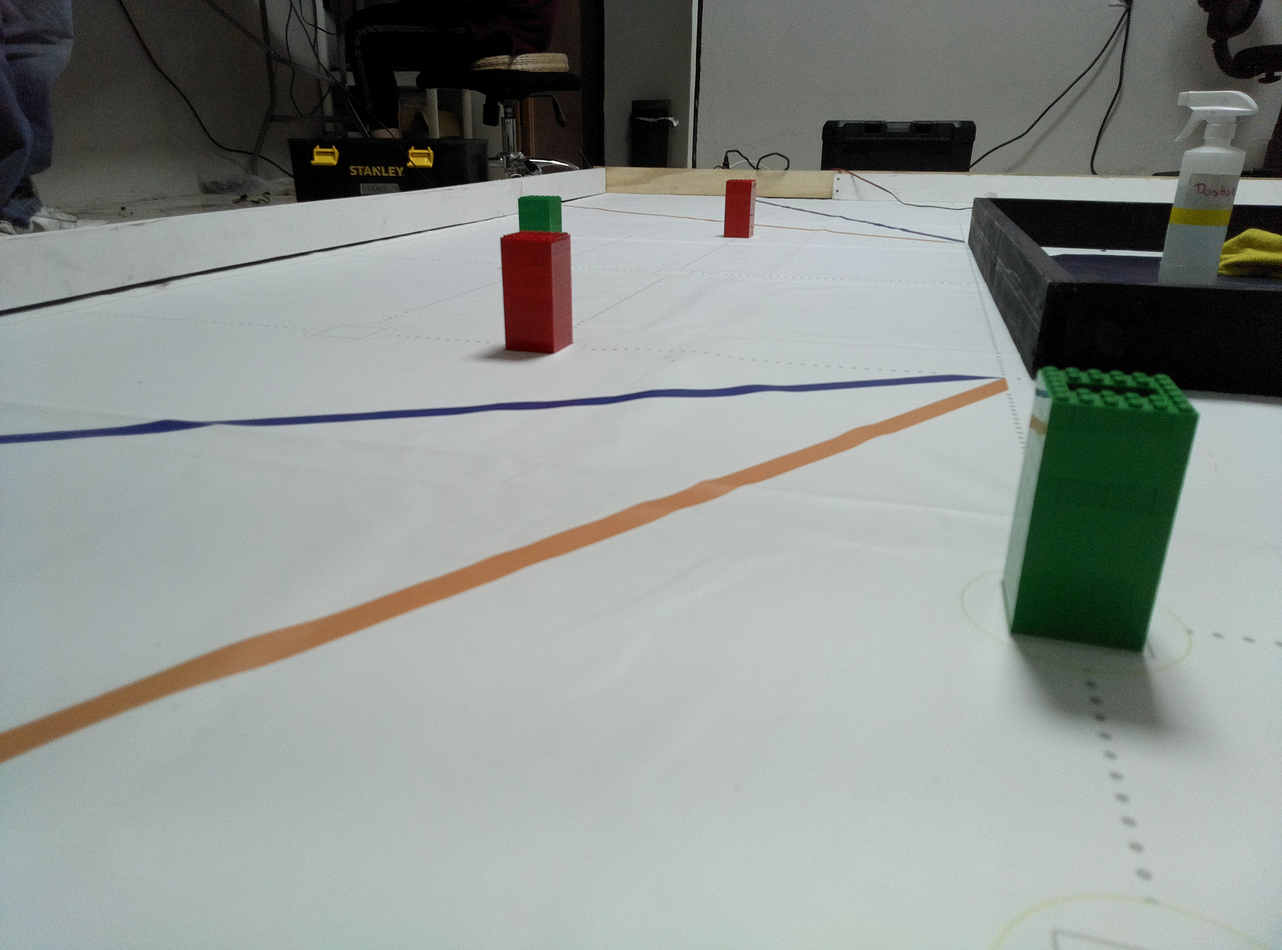greenbox: (998, 365, 1203, 665), (516, 194, 564, 234)
redbox: (497, 231, 578, 356), (721, 179, 758, 240)
